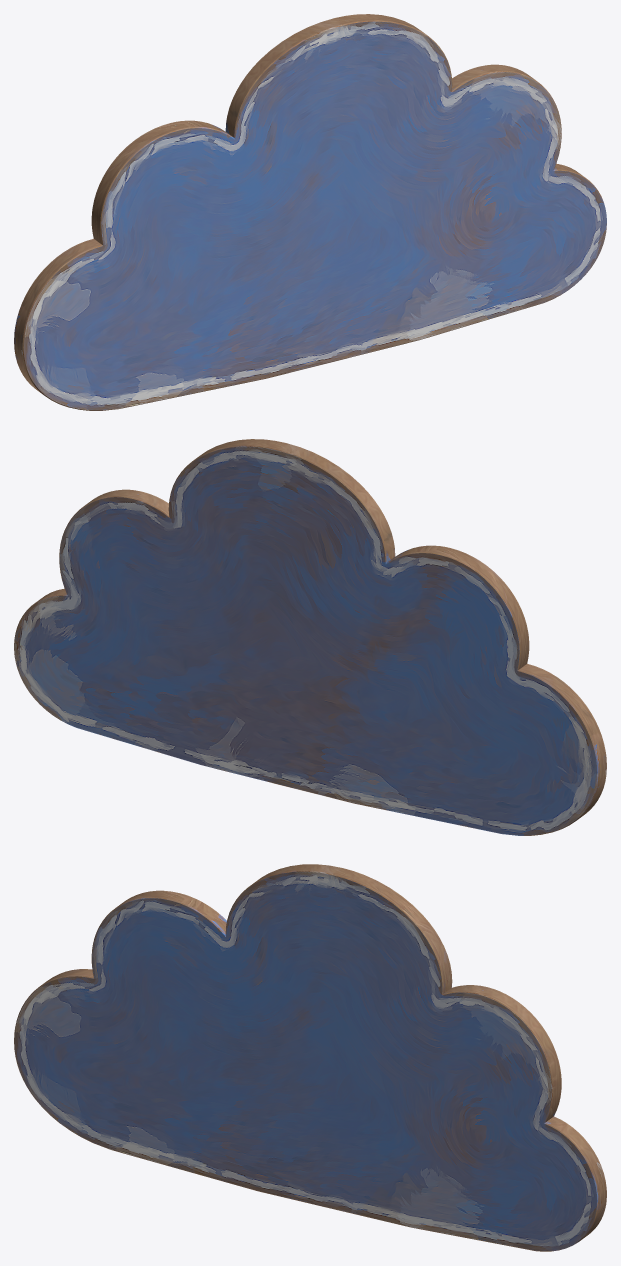
Rendered from cardboard_cloud.glb.
The picture shows the model from 3 angles, top to bottom: view 1: azimuth 30°, elevation 25°; view 2: azimuth 150°, elevation 25°; view 3: azimuth 330°, elevation 25°; orthographic projection.
Parts seen in each view (by area): view 1: Object_2; view 2: Object_2; view 3: Object_2.
Part boxes in pixels (x1,y1,x2,y2): Object_2: [14, 14, 606, 410]; Object_2: [14, 439, 606, 835]; Object_2: [14, 864, 606, 1251].
Size of the model in its own units: 227 by 125 by 6.38.
Materials: 1 (1 with a texture image).
